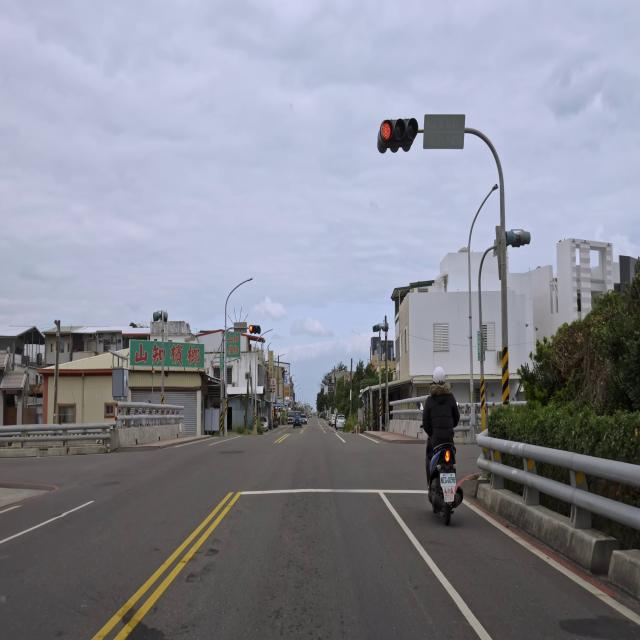red light: (376, 119, 419, 153), (249, 325, 261, 334)
